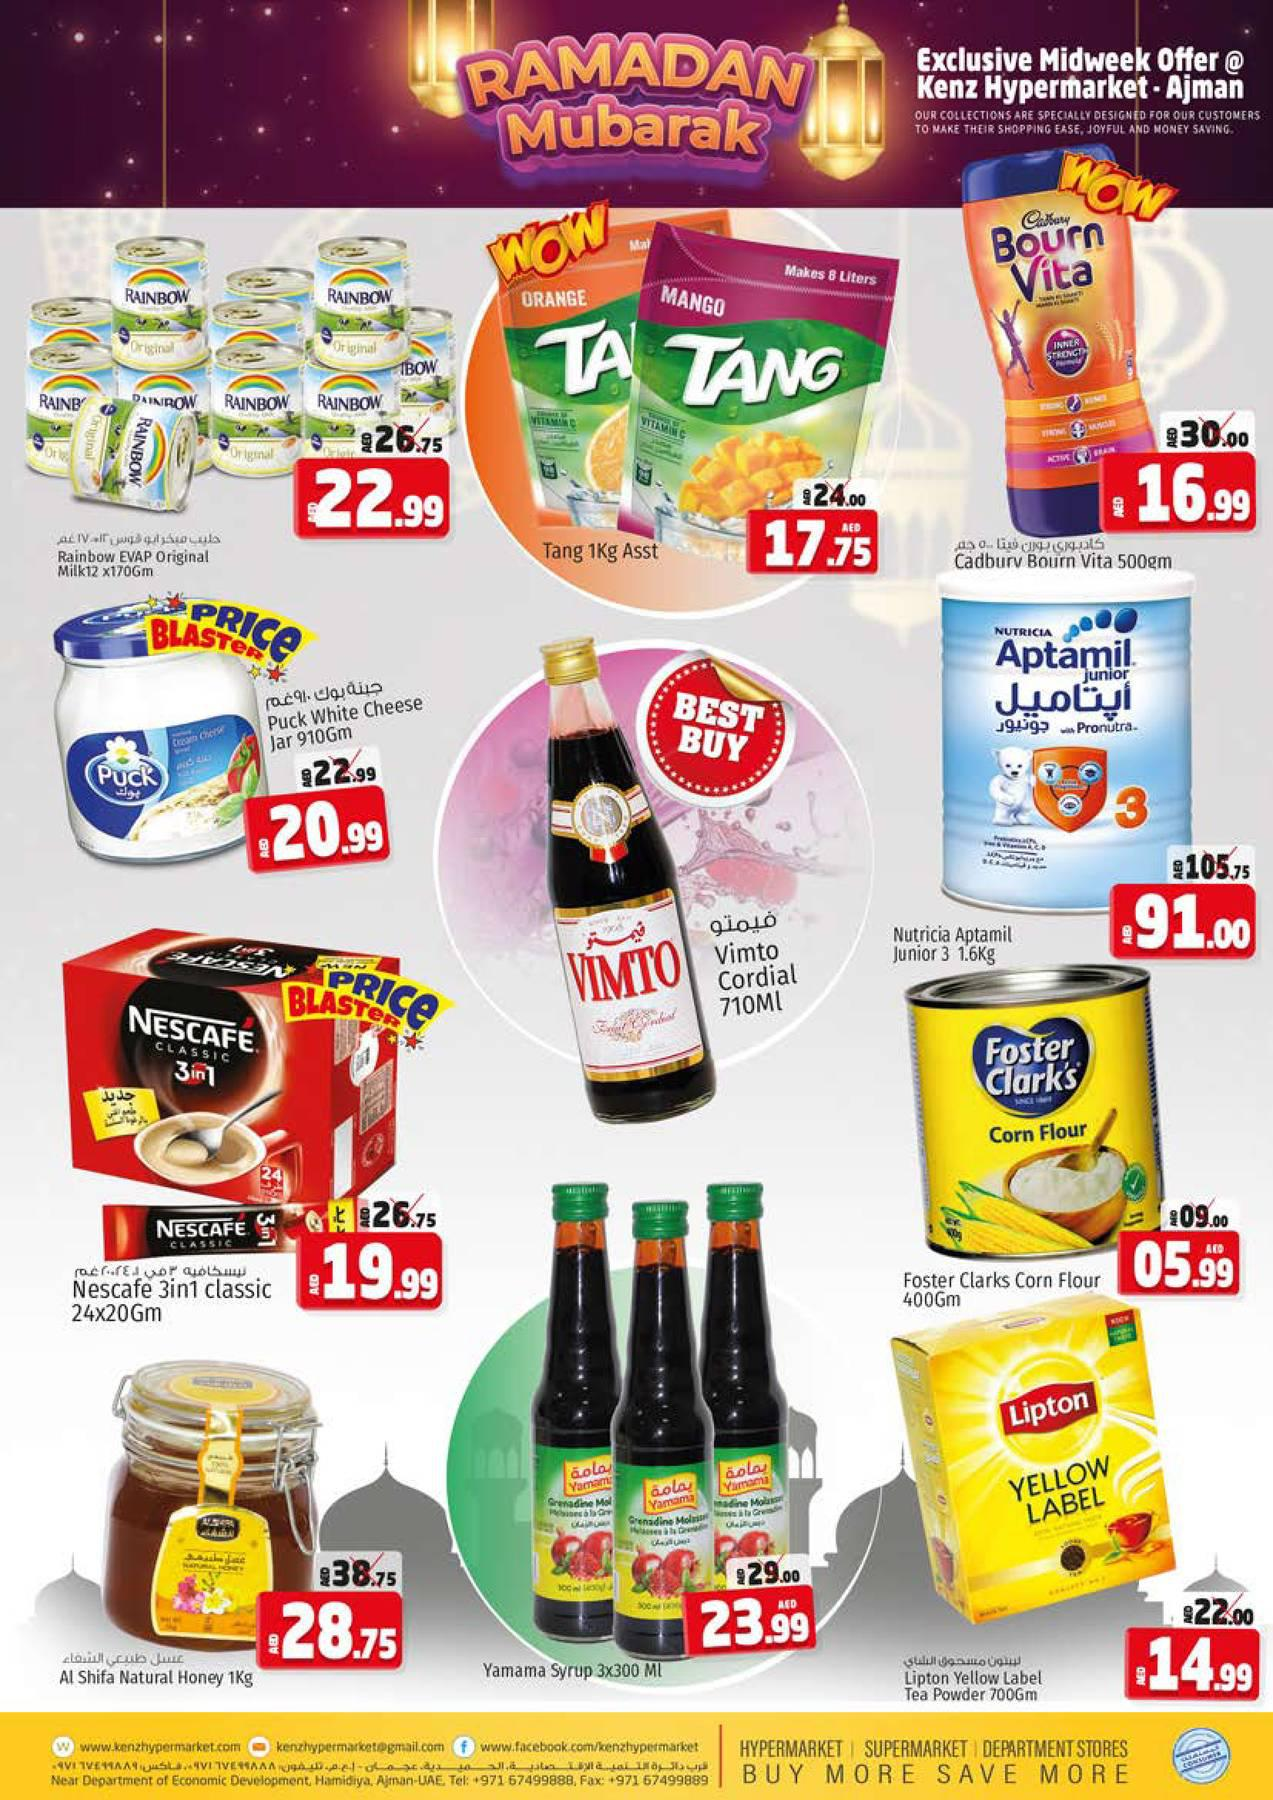text: (52, 1255, 288, 1335), (683, 891, 827, 1021), (247, 669, 451, 755), (40, 516, 238, 587), (872, 1642, 1065, 1713), (43, 1644, 259, 1701)
